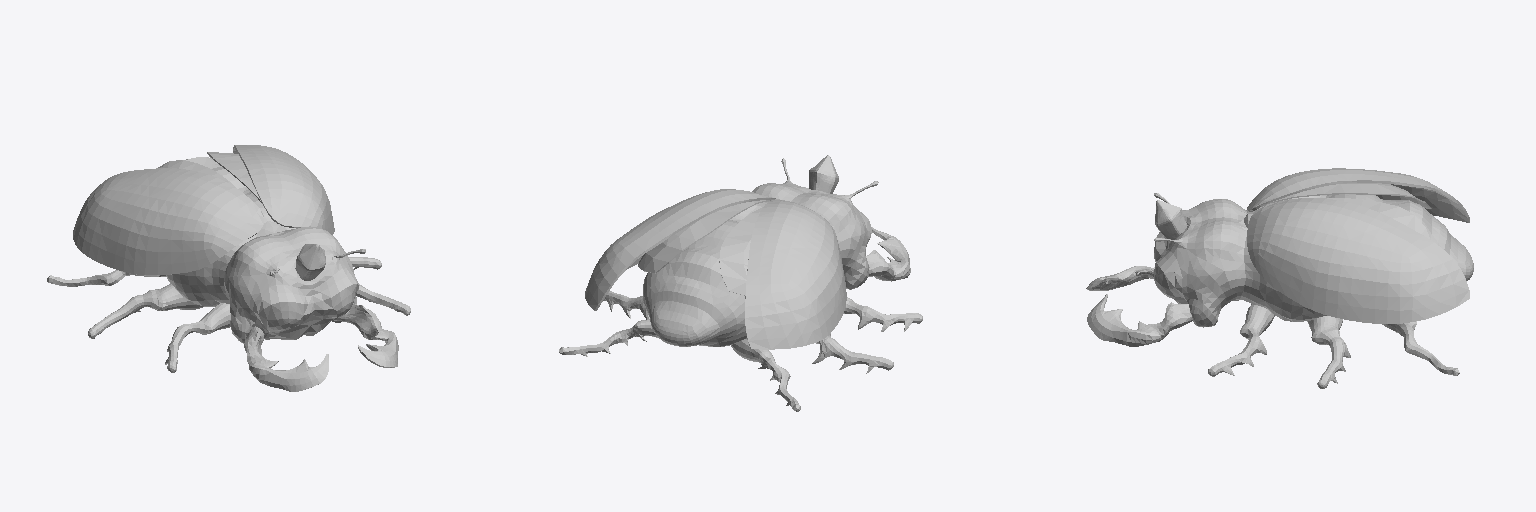
Rendered from bite.obj.
3 views of the same model, side by side, from view 1: azimuth 30°, elevation 25°; view 2: azimuth 150°, elevation 25°; view 3: azimuth 270°, elevation 25° (orthographic).
Parts seen in each view (by area): view 1: Full_LP_DEF_POSE_4:Mesh; view 2: Full_LP_DEF_POSE_4:Mesh; view 3: Full_LP_DEF_POSE_4:Mesh.
Boxes of the visible parts, <box> form: Full_LP_DEF_POSE_4:Mesh: <box>47,145,410,391</box>; Full_LP_DEF_POSE_4:Mesh: <box>559,155,922,411</box>; Full_LP_DEF_POSE_4:Mesh: <box>1086,168,1473,388</box>.
Bounding box in the file's own units: 0.3971 × 0.1714 × 0.4559.